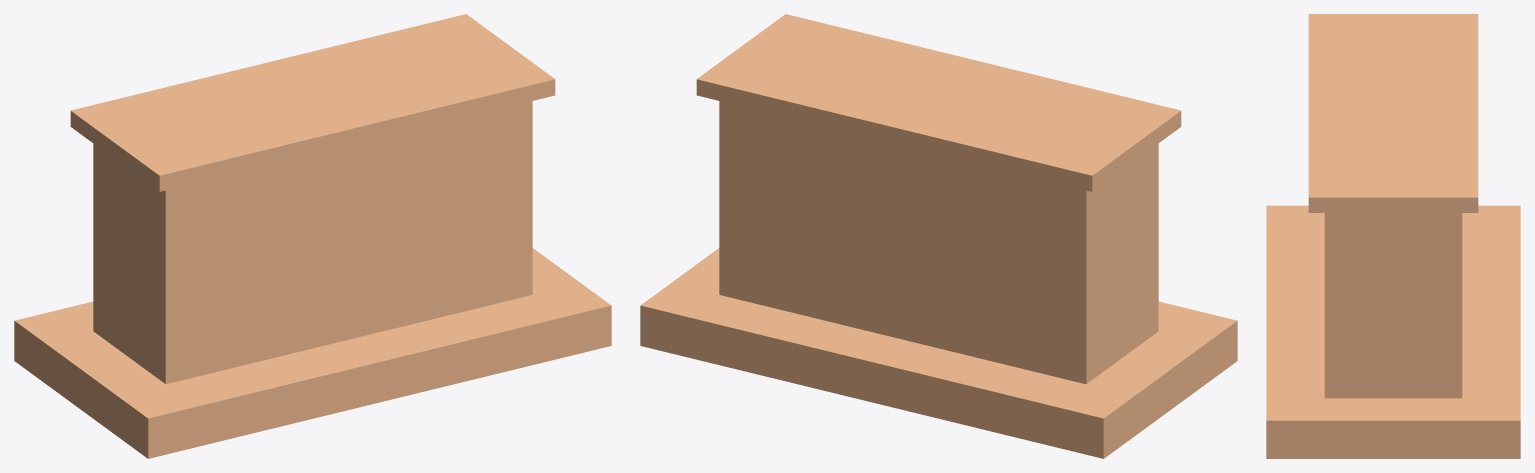
The picture shows the model from 3 angles, left to right: view 1: azimuth 30°, elevation 25°; view 2: azimuth 150°, elevation 25°; view 3: azimuth 270°, elevation 25°; orthographic projection. The views are drawn at different scales.
Visible parts, largest first — view 1: Bench, Platform, Top; view 2: Bench, Platform, Top; view 3: Platform, Top, Bench.
Part boxes in pixels (box(x1,y1,x2,y2)): Bench: box(93, 101, 532, 384); Platform: box(14, 248, 611, 458); Top: box(70, 14, 555, 191); Bench: box(719, 101, 1158, 384); Platform: box(640, 248, 1237, 458); Top: box(696, 14, 1181, 191); Platform: box(1266, 205, 1520, 458); Top: box(1308, 14, 1478, 212); Bench: box(1324, 213, 1462, 398).
Size of the model in its own units: 240 by 128 by 120.
